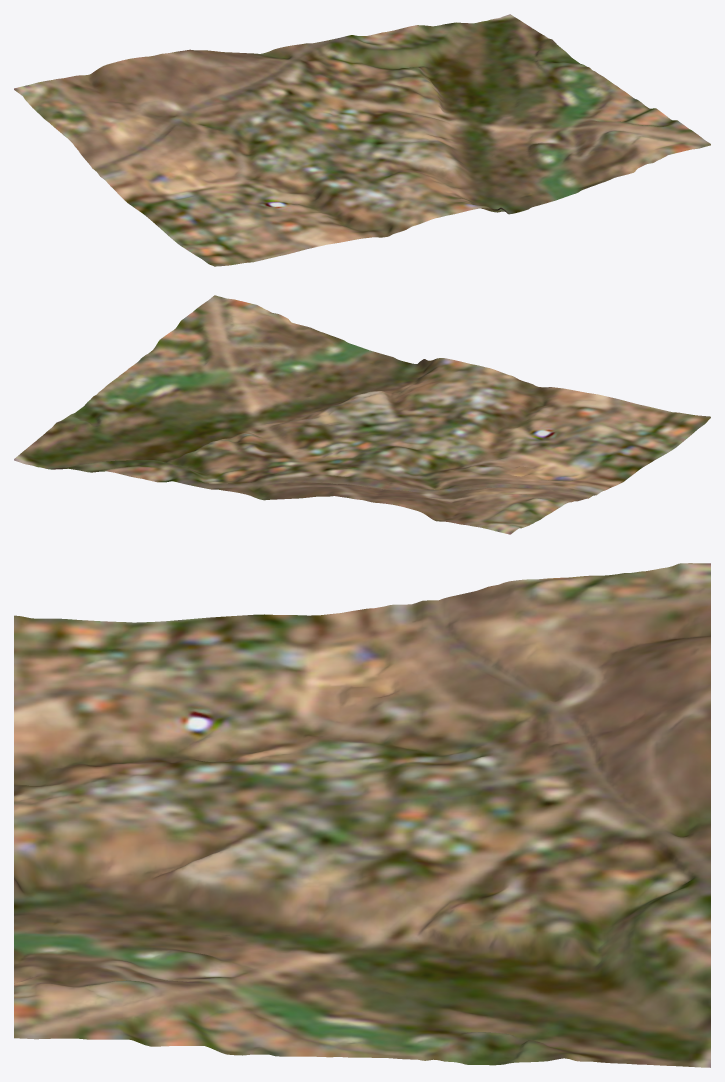
File: terrain_r1_c0.glb
The picture shows the model from 3 angles, top to bottom: view 1: azimuth 30°, elevation 25°; view 2: azimuth 150°, elevation 25°; view 3: azimuth 270°, elevation 25°; orthographic projection. The views are drawn at different scales.
Parts seen in each view (by area): view 1: terrain_r1_c0_lod0; view 2: terrain_r1_c0_lod0; view 3: terrain_r1_c0_lod0.
Part boxes in pixels (x1,y1,x2,y2): terrain_r1_c0_lod0: [14, 14, 710, 266]; terrain_r1_c0_lod0: [14, 295, 710, 534]; terrain_r1_c0_lod0: [14, 563, 710, 1067].
Bounding box in the file's own units: 1125 × 115 × 787.
Materials: 1 (1 with a texture image).
